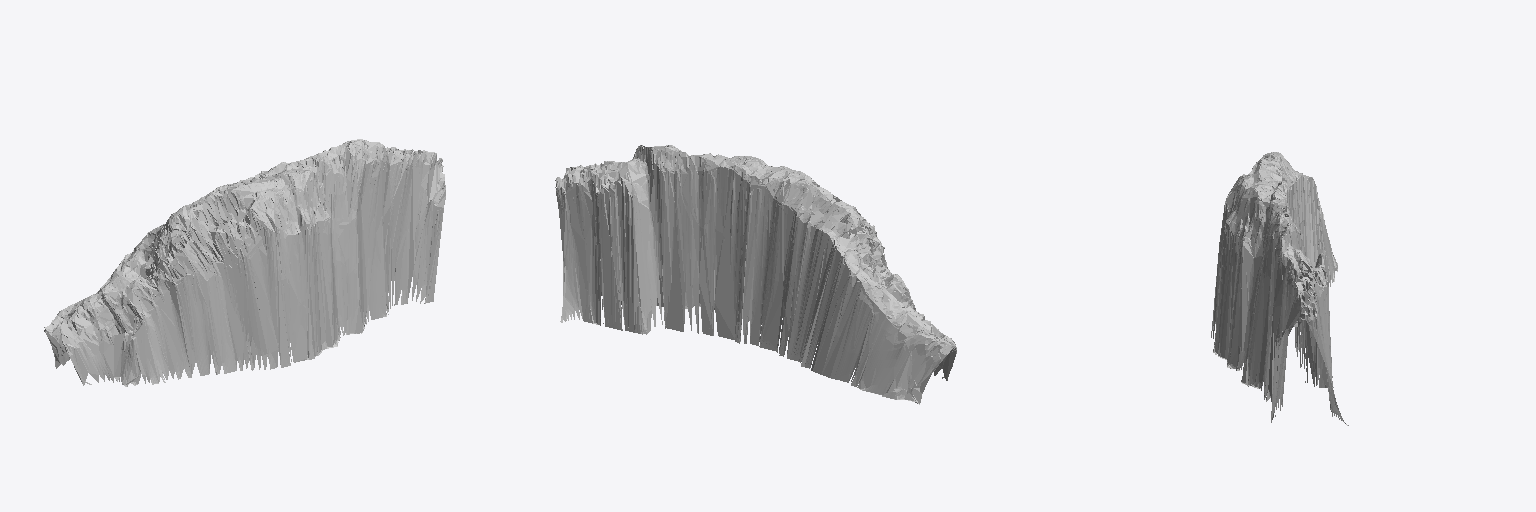
The model's file is SingleTrench_001_UpDown_PUBLISHED.obj.
3 views of the same model, side by side, from view 1: azimuth 30°, elevation 25°; view 2: azimuth 150°, elevation 25°; view 3: azimuth 270°, elevation 25° (orthographic).
Parts seen in each view (by area): view 1: Plane.023_LOD2_Plane.026, Plane.023_LOD0_Plane.024, Plane.023_LOD1_Plane.025; view 2: Plane.023_LOD0_Plane.024, Plane.023_LOD2_Plane.026, Plane.023_LOD1_Plane.025; view 3: Plane.023_LOD2_Plane.026, Plane.023_LOD0_Plane.024, Plane.023_LOD1_Plane.025.
Part boxes in pixels (x1,y1,x2,y2): Plane.023_LOD2_Plane.026: (44, 139, 445, 385); Plane.023_LOD0_Plane.024: (44, 140, 444, 386); Plane.023_LOD1_Plane.025: (45, 140, 445, 386); Plane.023_LOD0_Plane.024: (555, 145, 956, 403); Plane.023_LOD2_Plane.026: (557, 146, 956, 401); Plane.023_LOD1_Plane.025: (555, 145, 956, 404); Plane.023_LOD2_Plane.026: (1211, 152, 1342, 422); Plane.023_LOD0_Plane.024: (1211, 152, 1348, 425); Plane.023_LOD1_Plane.025: (1213, 152, 1346, 424).
Size of the model in its own units: 1.65 by 0.7016 by 0.4959.